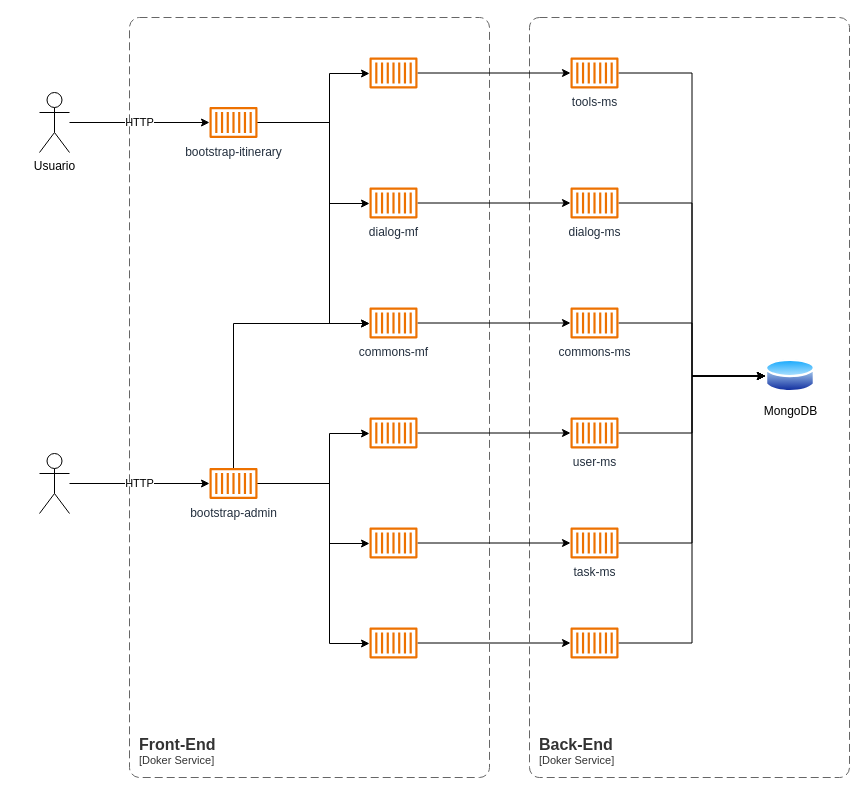
Some shapes in this 867 by 795 pixel diagram are drawn without their labels. The shapes that lost their labels are listed below. From the top down, each one's centre as x and y in pixels, then its label:
At (x=393, y=72): "tools-mf".
At (x=393, y=432): "user-mf".
At (x=54, y=483): "Administrador".
At (x=393, y=542): "task-mf".
At (x=393, y=642): "reports-mf".
At (x=594, y=642): "reports-ms".
